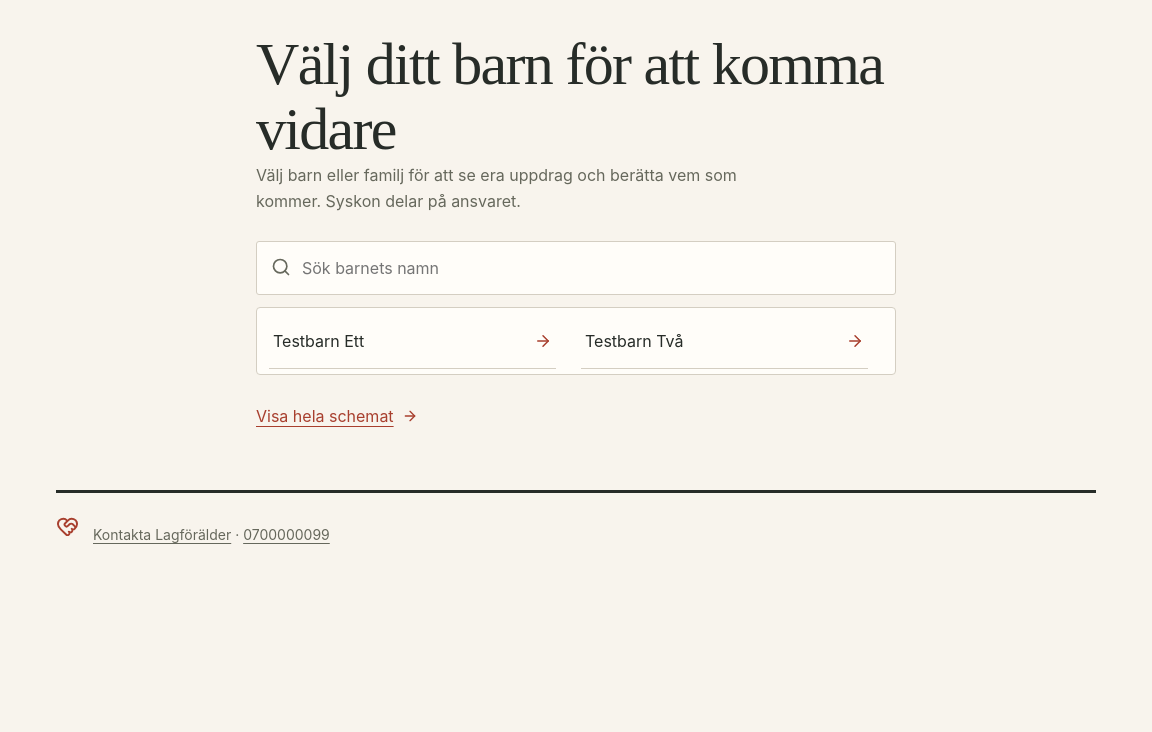
Test case: matchday parent view › opens the shared schedule without a family and offers one way back to family selection
Click the button "Visa hela schemat" at (337, 416), box left=256, top=394, right=418, bottom=438
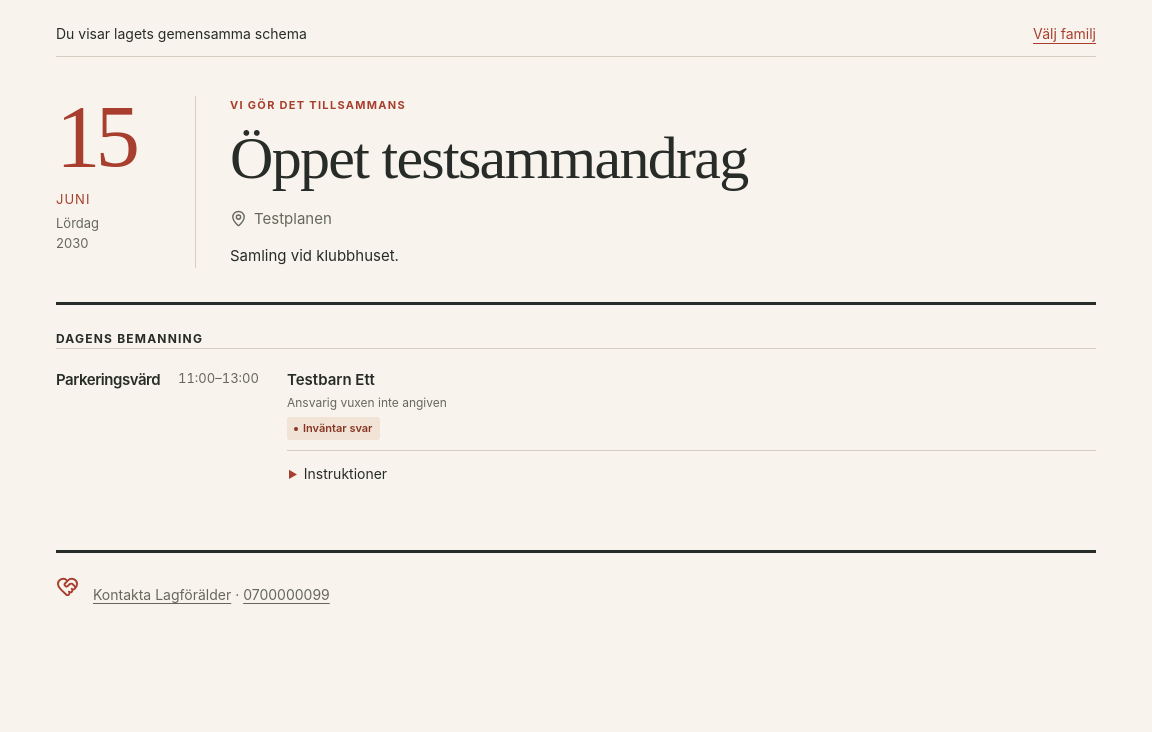
Result: the heading "Öppet testsammandrag" is shown at left=230, top=125, right=748, bottom=191
Result: the element "Dagens bemanning" is shown at left=56, top=305, right=1096, bottom=516
Click the button "Välj familj" at (1064, 34), box left=1033, top=12, right=1096, bottom=56
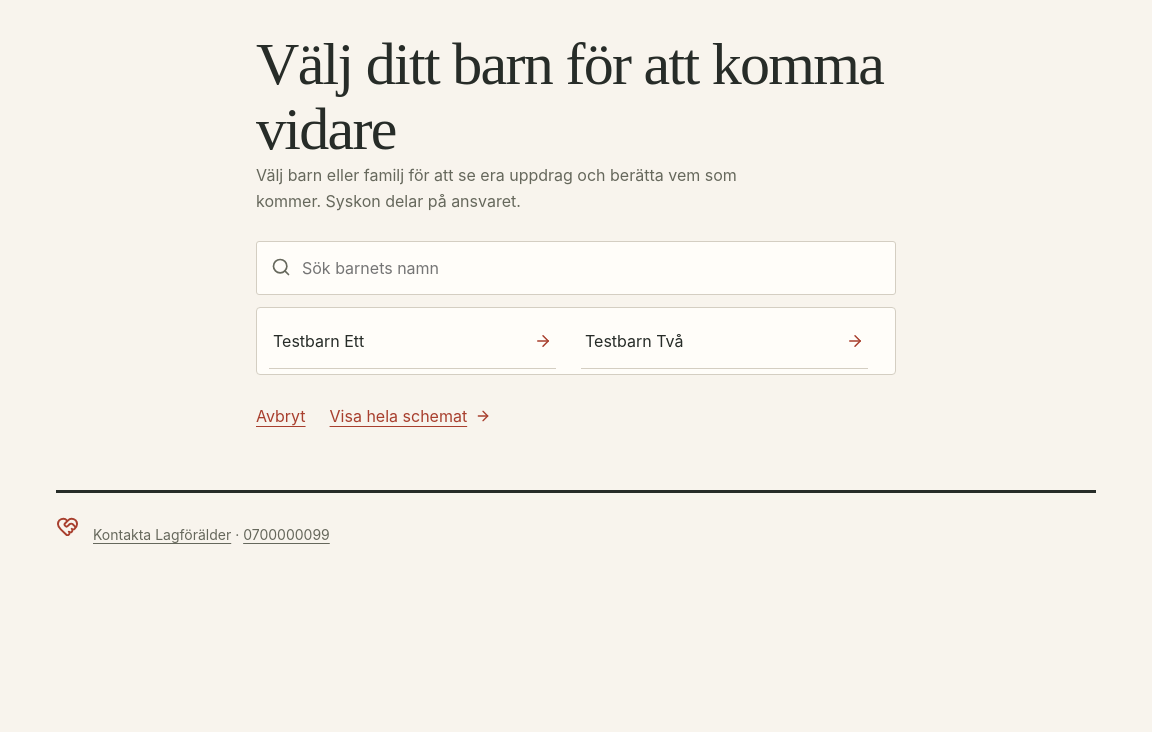
Result: the search field named "Sök barn eller familj" is shown at left=256, top=241, right=896, bottom=295
